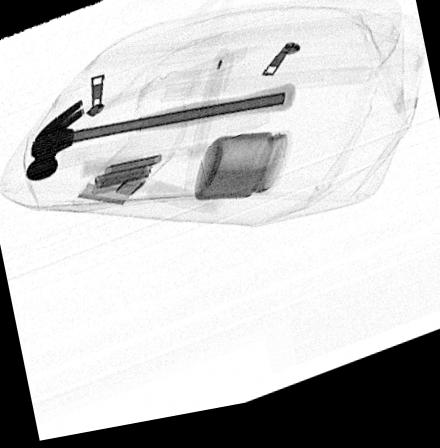Hammer: (25, 93, 296, 182)
